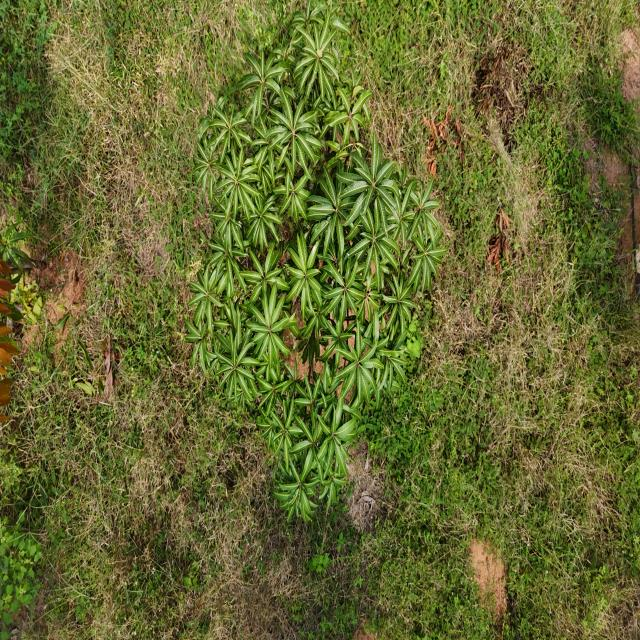mangoTree: (184, 0, 447, 528)
